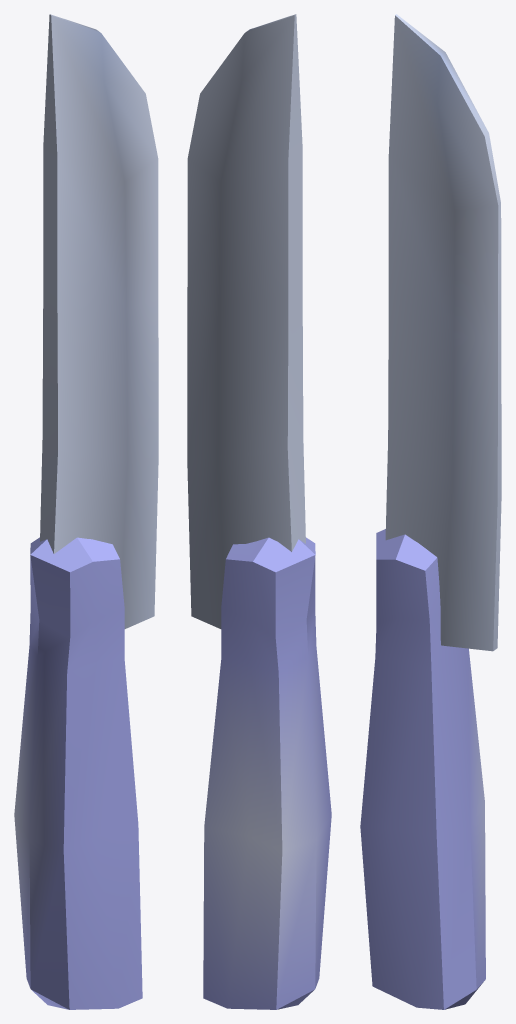
The model's file is knife3.fbx.
3 renders of one model, left to right at view 1: azimuth 30°, elevation 25°; view 2: azimuth 150°, elevation 25°; view 3: azimuth 330°, elevation 25°, orthographic. The views are drawn at different scales.
Visible parts, largest first — view 1: Blade.002, Handle.002; view 2: Blade.002, Handle.002; view 3: Blade.002, Handle.002.
Part boxes in pixels (x1,y1,x2,y2): Blade.002: (40,14,158,628); Handle.002: (14,537,142,1009); Blade.002: (187,14,305,628); Handle.002: (203,537,331,1009); Blade.002: (385,14,501,651); Handle.002: (360,529,485,1009).
Size of the model in its own units: 17.08 by 128 by 12.43.
